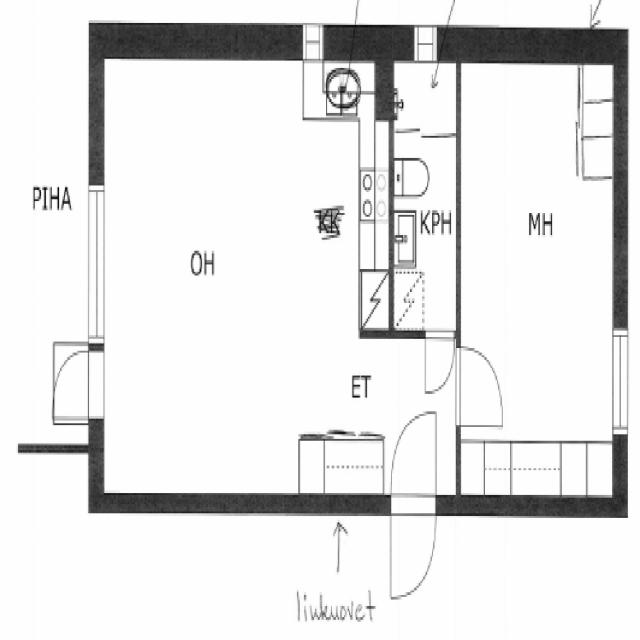door: (385, 406, 441, 604), (45, 336, 108, 430), (456, 333, 508, 439), (420, 326, 456, 398), (410, 10, 445, 74)
window: (80, 160, 111, 350), (607, 309, 633, 452), (411, 12, 445, 72), (298, 18, 328, 62)
zone: (85, 56, 388, 496), (456, 44, 625, 502), (390, 84, 460, 342)
